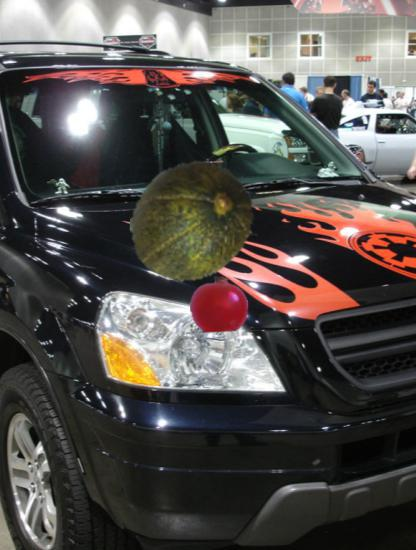Melon: (130, 158, 258, 286)
Redcurrant: (190, 275, 249, 334)
